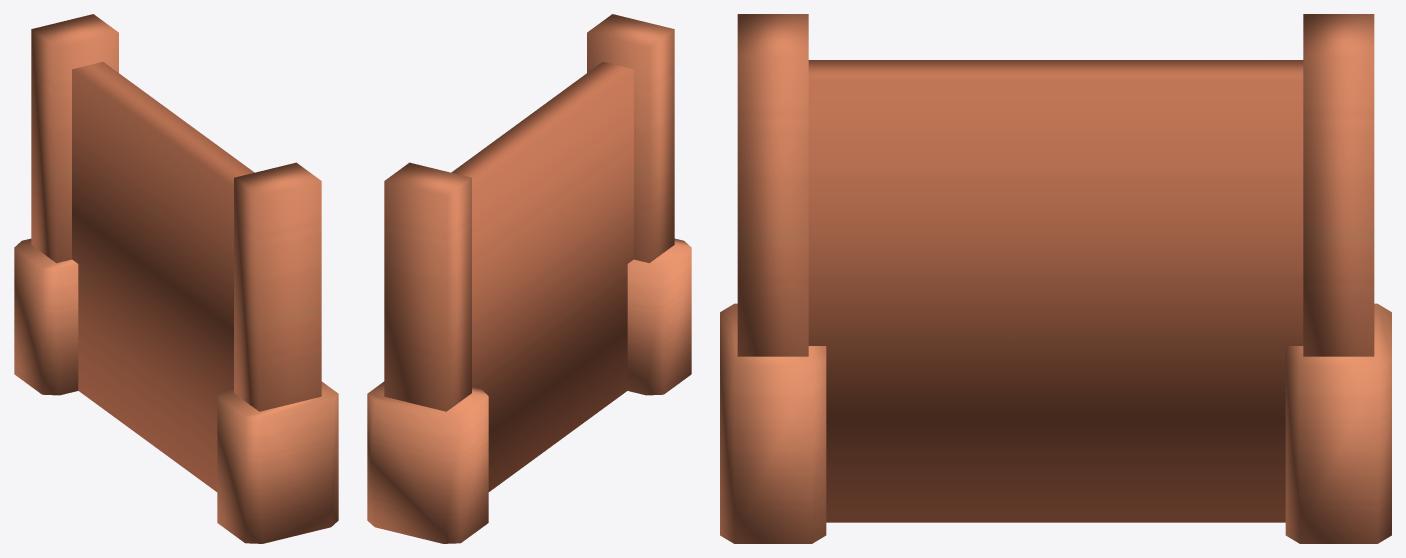
The model's file is n1_fence_lev1.glb.
3 renders of one model, left to right at view 1: azimuth 30°, elevation 25°; view 2: azimuth 150°, elevation 25°; view 3: azimuth 270°, elevation 25°, orthographic. The views are drawn at different scales.
Visible parts, largest first — view 1: n1_fence_lev1; view 2: n1_fence_lev1; view 3: n1_fence_lev1.
Boxes of the visible parts, left/top/right/bottom form: n1_fence_lev1: left=14, top=14, right=338, bottom=543; n1_fence_lev1: left=367, top=14, right=691, bottom=543; n1_fence_lev1: left=720, top=14, right=1391, bottom=543.
Size of the model in its own units: 0.5812 by 2.03 by 2.59.
1 material, 1 textured.
